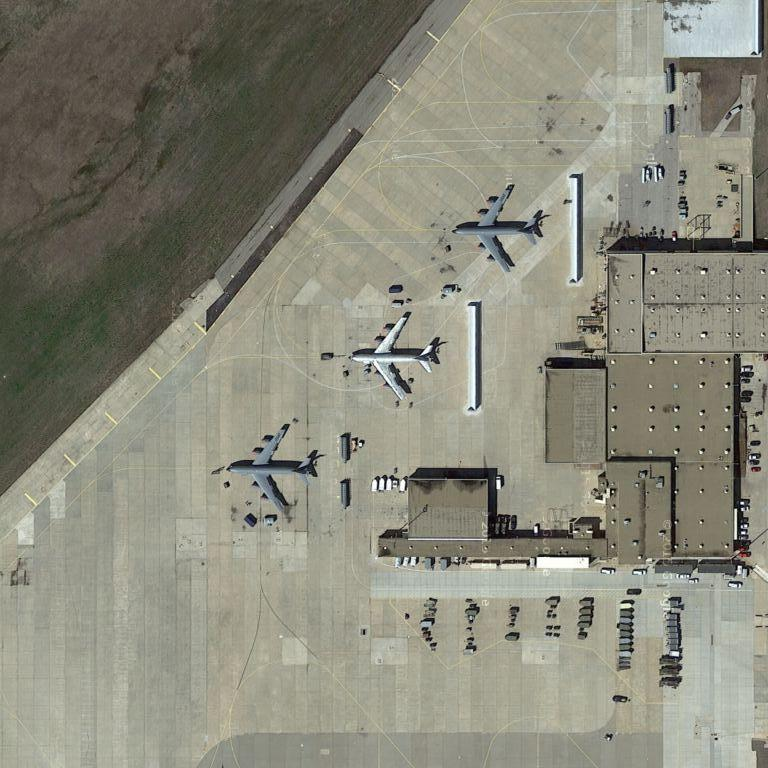E-8: (349, 311, 442, 401)
KC-135: (222, 425, 319, 517), (450, 182, 545, 274)
